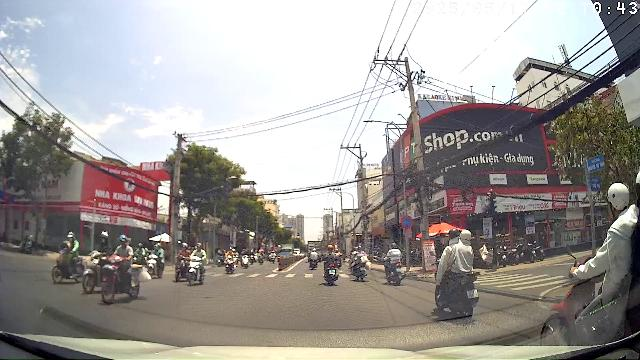131a-cam-do-xe: (401, 216, 414, 229)
